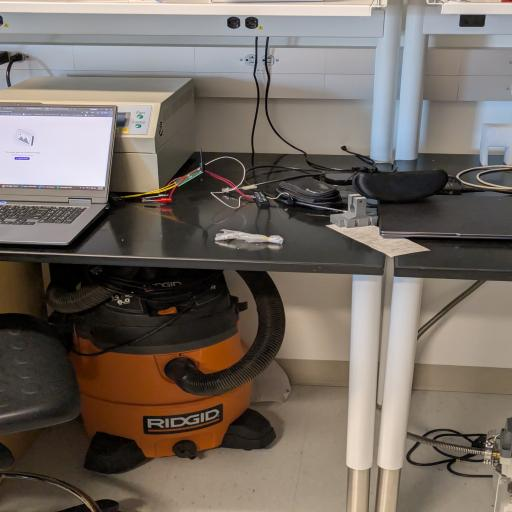rubberband: (212, 226, 287, 251)
